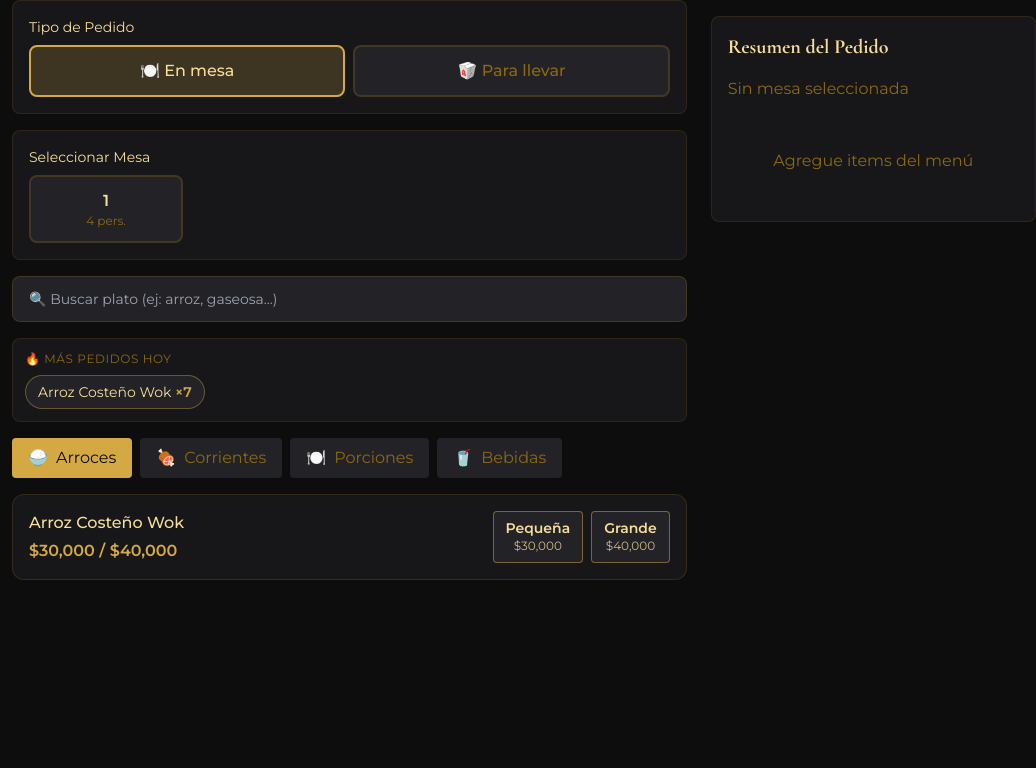
Test case: agrega un plato desde la sección de más pedidos hoy
Check: the text "🔥 Más pedidos hoy" is shown, box [25,351,172,366]
Check: the text "×7" is shown, box [175,383,192,401]
Click the button with aria-label "Agregar Arroz Costeño Wok" at (115, 392), box [25,375,205,409]
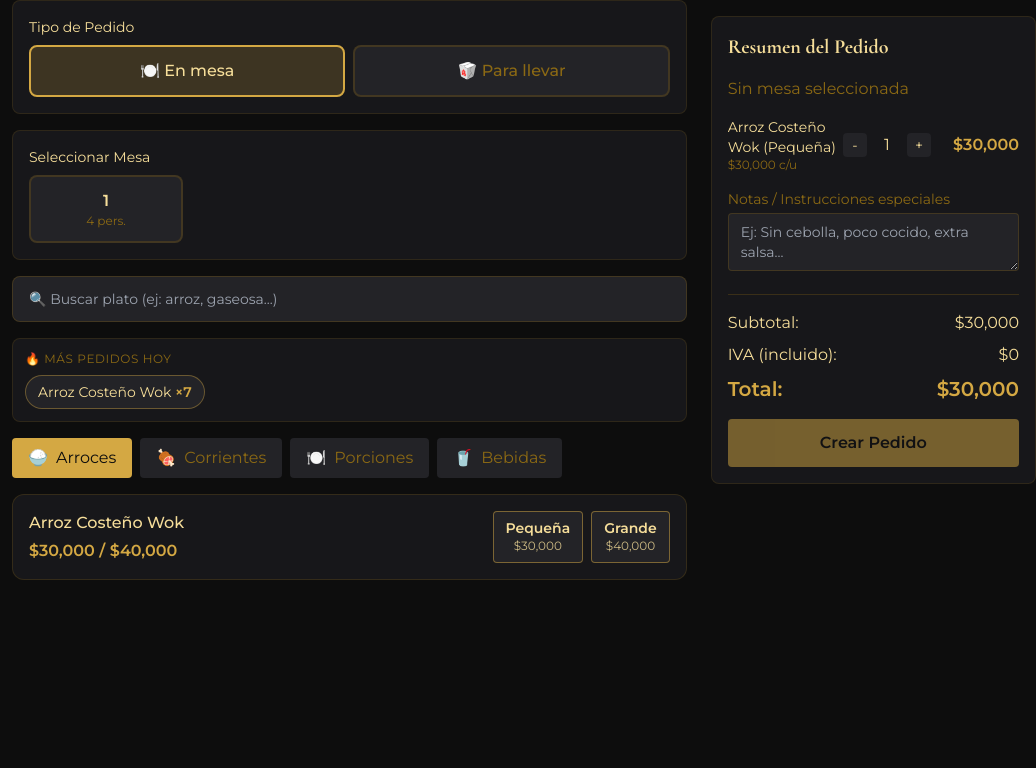
Check: the text "Arroz Costeño Wok (Pequeña)" is shown, box [728,117,843,157]
